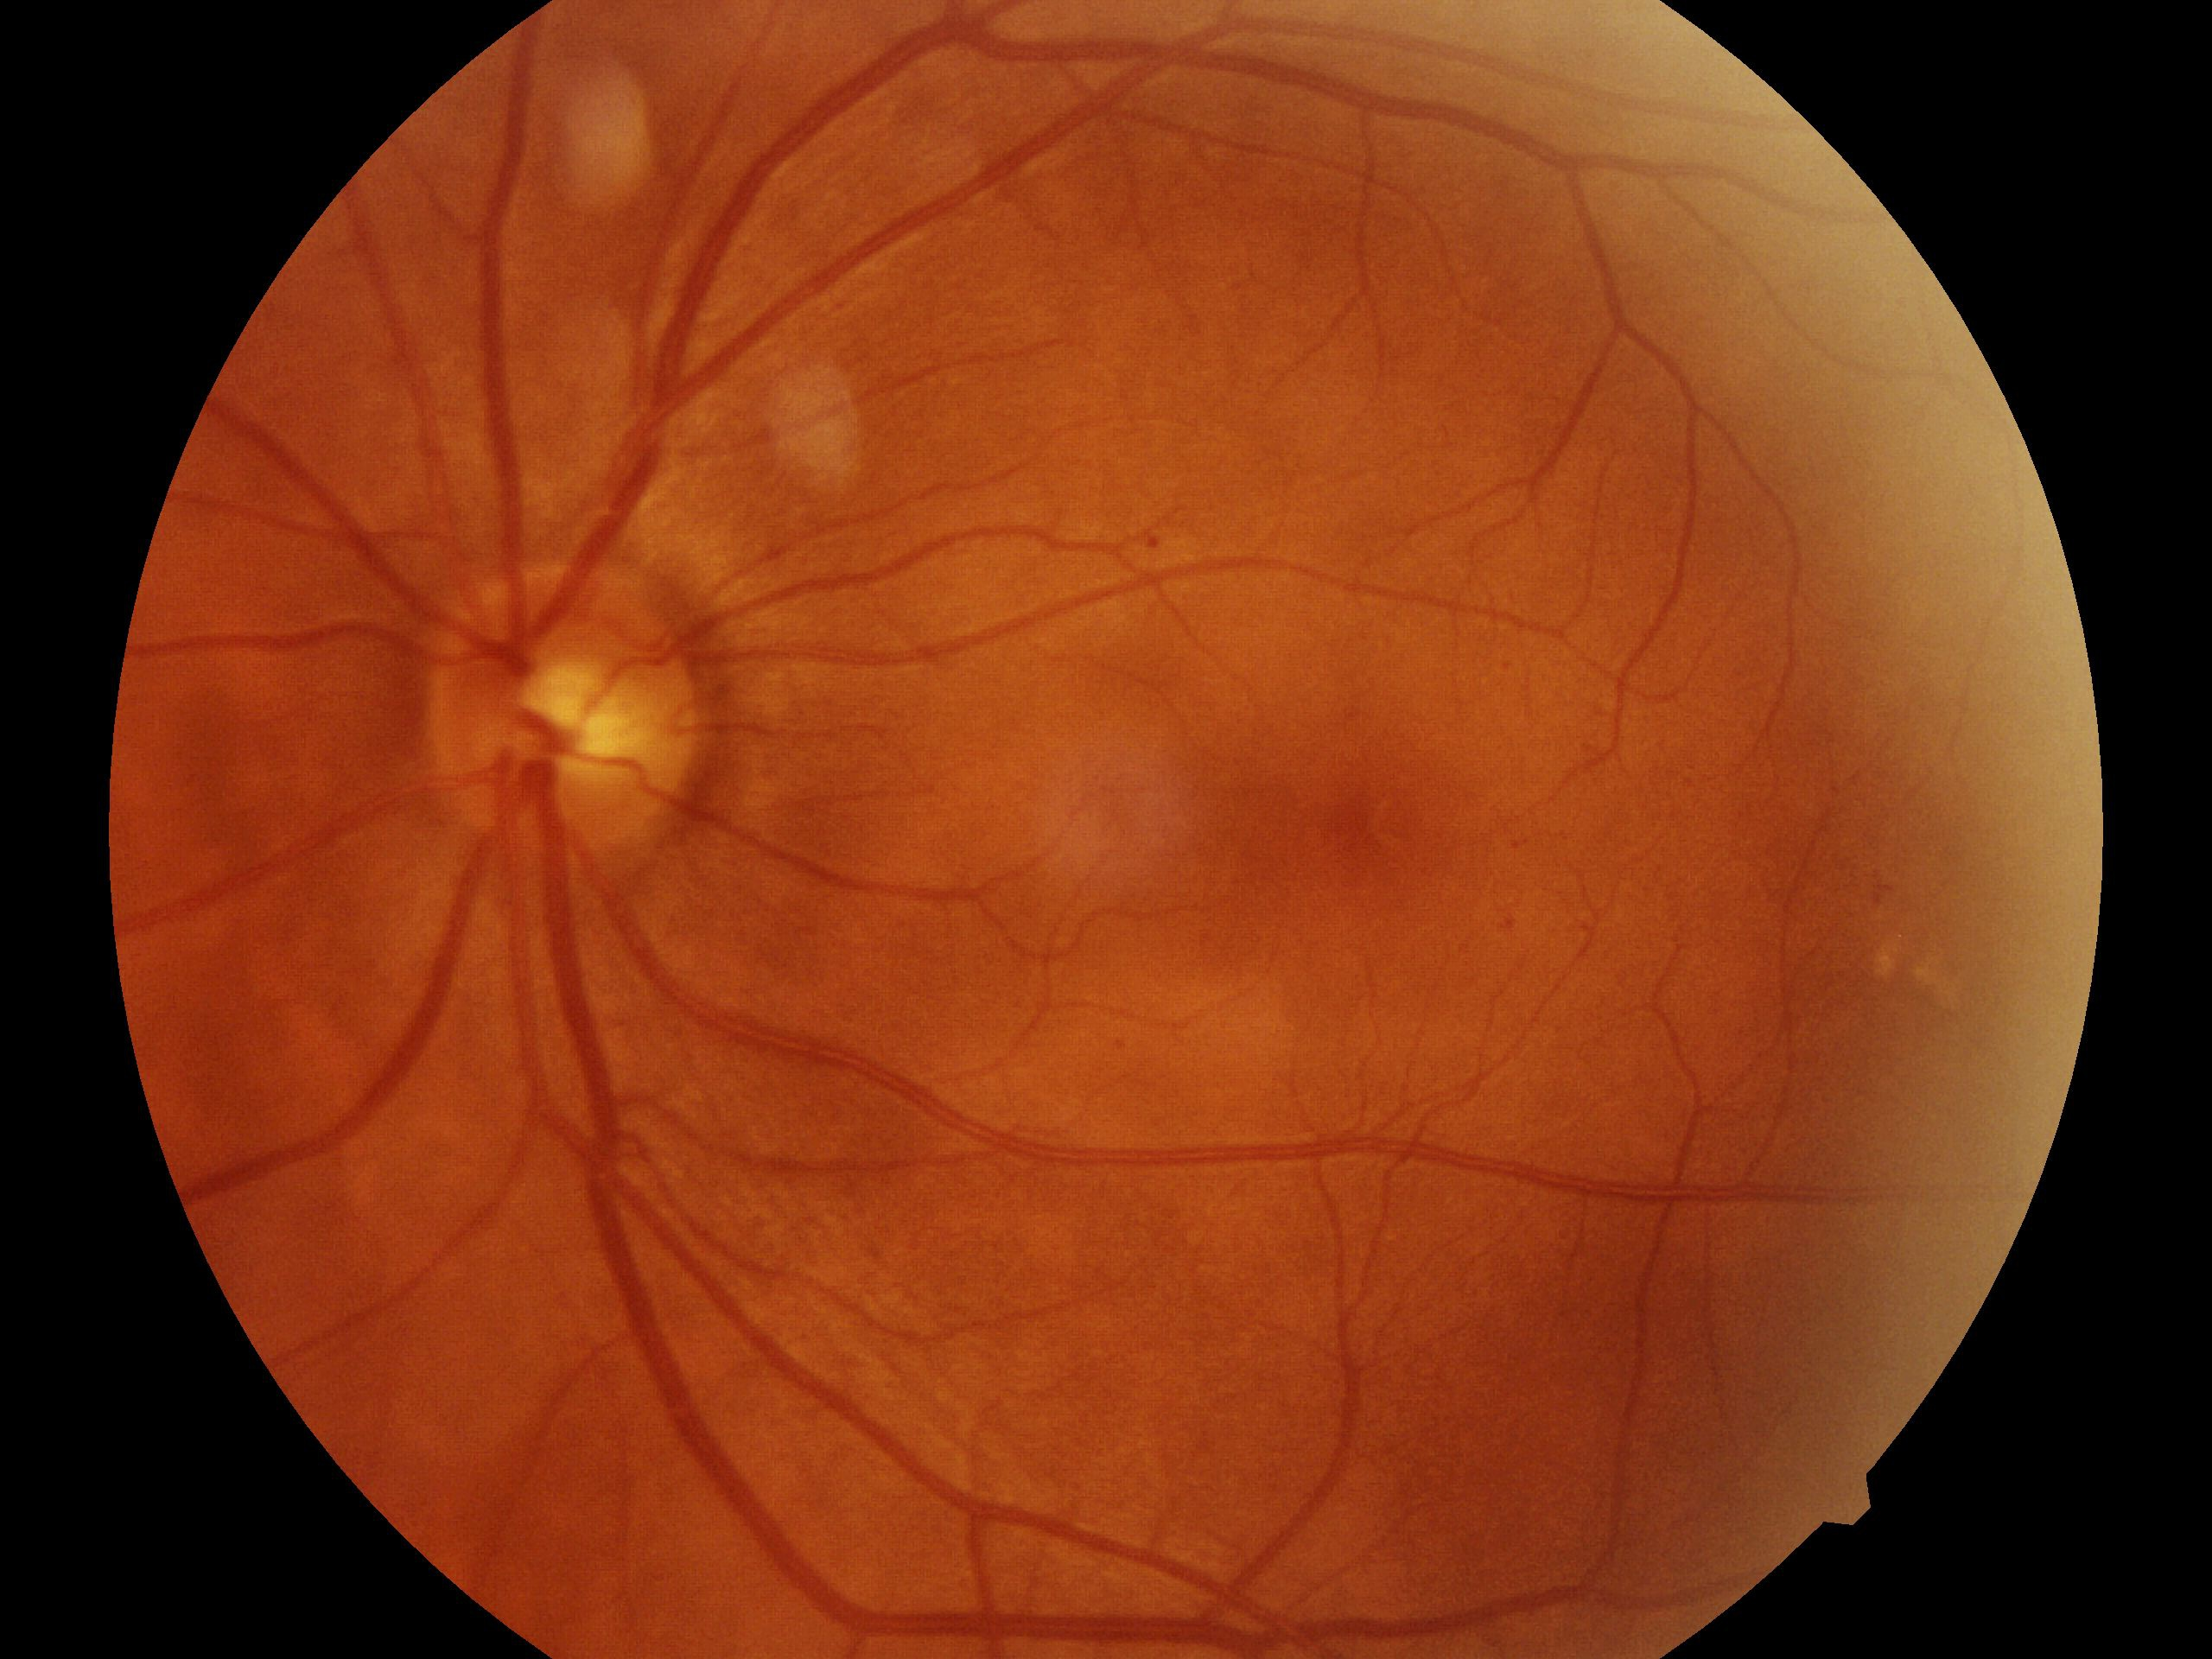Hemorrhages: (1165, 692, 1446, 932)
Optic-Disc: (399, 558, 718, 882)
Venules: (563, 999, 805, 1608), (453, 56, 702, 500)
